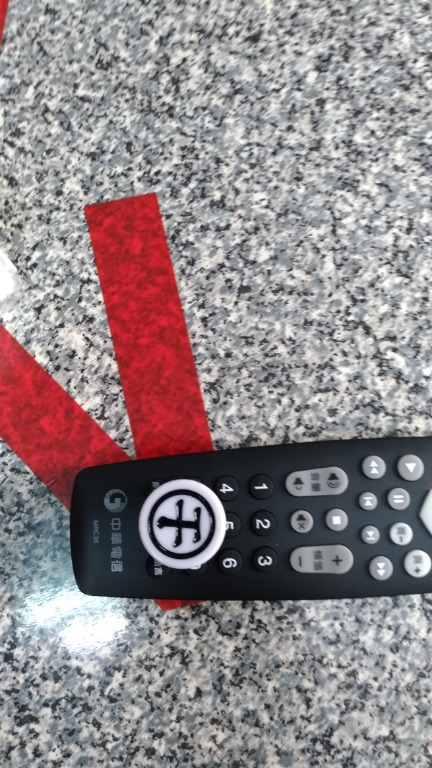b-advisor: (124, 473, 249, 573)
